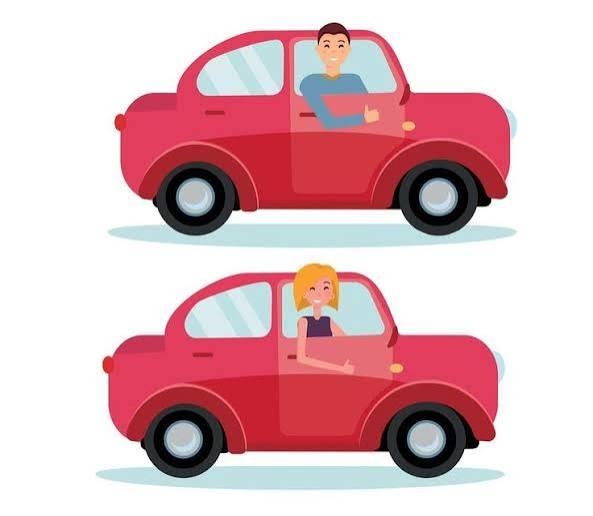car: (113, 9, 503, 248)
